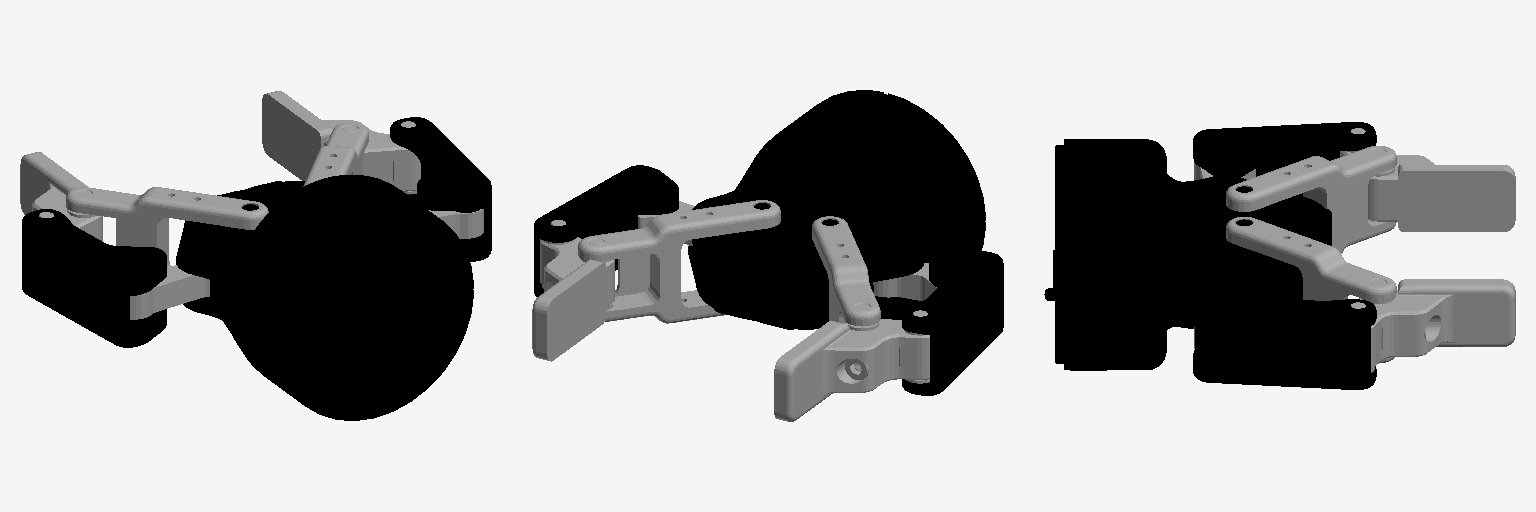
URDF robot description (ur5e_robotiq):
<?xml version="1.0"?>
<!-- =================================================================================== -->
<!-- |    This document was autogenerated by xacro from ur_robotiq.urdf.xacro          | -->
<!-- |    EDITING THIS FILE BY HAND IS NOT RECOMMENDED                                 | -->
<!-- =================================================================================== -->
<robot name="ur5e_robotiq">
  <!-- This xacro file combines the UR5e collaborative robotic arm and the Robotiq 2F-85 gripper. -->
  <!--
    Base UR robot series xacro macro.

    NOTE this is NOT a URDF. It cannot directly be loaded by consumers
    expecting a flattened '.urdf' file. See the top-level '.xacro' for that
    (but note that .xacro must still be processed by the xacro command).

    This file models the base kinematic chain of a UR robot, which then gets
    parameterised by various configuration files to convert it into a UR3(e),
    UR5(e), UR10(e) or UR16e.

    NOTE the default kinematic parameters (i.e., link lengths, frame locations,
    offsets, etc) do not correspond to any particular robot. They are defaults
    only. There WILL be non-zero offsets between the Forward Kinematics results
    in TF (i.e., robot_state_publisher) and the values reported by the Teach
    Pendant.

    For accurate (and robot-specific) transforms, the 'kinematics_parameters_file'
    parameter MUST point to a .yaml file containing the appropriate values for
    the targeted robot.

    If using the UniversalRobots/Universal_Robots_ROS_Driver, follow the steps
    described in the readme of that repository to extract the kinematic
    calibration from the controller and generate the required .yaml file.

    Main author of the migration to yaml configs [author].

    Contributors to previous versions (in no particular order)

     - [author]
     - [author]
     - [author]
     - [author]
     - [author]
     - [author]
     - [author]
     - [author]
     - [author]
     - [author]
     - [author]
     - [author]
     - [author]
     - [author]
     - [author]
     - [author]
     - [author]
     - [author]
     - [author]
  -->
  <!-- create link fixed to the "world" -->
  <link name="world" />
  <!-- links -  main serial chain -->
  <link name="base_link" />
  <link name="base_link_inertia">
    <visual>
      <origin rpy="0 0 3.141592653589793" xyz="0 0 0" />
      <geometry>
        <mesh filename="../meshes/ur5e/visual/base.obj" />
      </geometry>
      <material name="LightGrey">
        <color rgba="0.7 0.7 0.7 1.0" />
      </material>
    </visual>
    <collision>
      <origin rpy="0 0 3.141592653589793" xyz="0 0 0" />
      <geometry>
        <mesh filename="../meshes/ur5e/collision/base.stl" />
      </geometry>
    </collision>
    <inertial>
      <mass value="4.0" />
      <origin rpy="0 0 0" xyz="0 0 0" />
      <inertia ixx="0.00443333156" ixy="0.0" ixz="0.0" iyy="0.00443333156" iyz="0.0" izz="0.0072" />
    </inertial>
  </link>
  <link name="shoulder_link">
    <visual>
      <origin rpy="0 0 3.141592653589793" xyz="0 0 0" />
      <geometry>
        <mesh filename="../meshes/ur5e/visual/shoulder.obj" />
      </geometry>
      <material name="UR_Blue">
        <color rgba="0.376 0.576 0.674 1.0" />
      </material>
    </visual>
    <collision>
      <origin rpy="0 0 3.141592653589793" xyz="0 0 0" />
      <geometry>
        <mesh filename="../meshes/ur5e/collision/shoulder.stl" />
      </geometry>
    </collision>
    <inertial>
      <mass value="3.761" />
      <origin rpy="0 0 0" xyz="0.0 -0.00193 -0.02561" />
      <inertia ixx="0.010267499999999999" ixy="0" ixz="0" iyy="0.010267499999999999" iyz="0"
        izz="0.00666" />
    </inertial>
  </link>
  <link name="upper_arm_link">
    <visual>
      <origin rpy="1.5707963267948966 0 -1.5707963267948966" xyz="0 0 0.138" />
      <geometry>
        <mesh filename="../meshes/ur5e/visual/upperarm.obj" />
      </geometry>
      <material name="LightGrey">
        <color rgba="0.7 0.7 0.7 1.0" />
      </material>
    </visual>
    <collision>
      <origin rpy="1.5707963267948966 0 -1.5707963267948966" xyz="0 0 0.138" />
      <geometry>
        <mesh filename="../meshes/ur5e/collision/upperarm.stl" />
      </geometry>
    </collision>
    <inertial>
      <mass value="8.058" />
      <origin rpy="0 1.570796326794897 0" xyz="-0.2125 0.0 0.11336" />
      <inertia ixx="0.13388583541666665" ixy="0" ixz="0" iyy="0.13388583541666665" iyz="0"
        izz="0.0151074" />
    </inertial>
  </link>
  <link name="forearm_link">
    <visual>
      <origin rpy="1.5707963267948966 0 -1.5707963267948966" xyz="0 0 0.007" />
      <geometry>
        <mesh filename="../meshes/ur5e/visual/forearm.obj" />
      </geometry>
      <material name="LightGrey">
        <color rgba="0.7 0.7 0.7 1.0" />
      </material>
    </visual>
    <collision>
      <origin rpy="1.5707963267948966 0 -1.5707963267948966" xyz="0 0 0.007" />
      <geometry>
        <mesh filename="../meshes/ur5e/collision/forearm.stl" />
      </geometry>
    </collision>
    <inertial>
      <mass value="2.846" />
      <origin rpy="0 1.570796326794897 0" xyz="-0.2422 0.0 0.0265" />
      <inertia ixx="0.03120936758333333" ixy="0" ixz="0" iyy="0.03120936758333333" iyz="0"
        izz="0.004095" />
    </inertial>
  </link>
  <link name="wrist_1_link">
    <visual>
      <origin rpy="1.5707963267948966 0 0" xyz="0 0 -0.127" />
      <geometry>
        <mesh filename="../meshes/ur5e/visual/wrist1.obj" />
      </geometry>
      <material name="UR_Blue">
        <color rgba="0.376 0.576 0.674 1.0" />
      </material>
    </visual>
    <collision>
      <origin rpy="1.5707963267948966 0 0" xyz="0 0 -0.127" />
      <geometry>
        <mesh filename="../meshes/ur5e/collision/wrist1.stl" />
      </geometry>
    </collision>
    <inertial>
      <mass value="1.37" />
      <origin rpy="0 0 0" xyz="0.0 -0.01634 -0.0018" />
      <inertia ixx="0.0025599" ixy="0" ixz="0" iyy="0.0025599" iyz="0" izz="0.0021942" />
    </inertial>
  </link>
  <link name="wrist_2_link">
    <visual>
      <origin rpy="0 0 0" xyz="0 0 -0.0997" />
      <geometry>
        <mesh filename="../meshes/ur5e/visual/wrist2.obj" />
      </geometry>
      <material name="LightGrey">
        <color rgba="0.7 0.7 0.7 1.0" />
      </material>
    </visual>
    <collision>
      <origin rpy="0 0 0" xyz="0 0 -0.0997" />
      <geometry>
        <mesh filename="../meshes/ur5e/collision/wrist2.stl" />
      </geometry>
    </collision>
    <inertial>
      <mass value="1.3" />
      <origin rpy="0 0 0" xyz="0.0 0.01634 -0.0018" />
      <inertia ixx="0.0025599" ixy="0" ixz="0" iyy="0.0025599" iyz="0" izz="0.0021942" />
    </inertial>
  </link>
  <link name="wrist_3_link">
    <visual>
      <origin rpy="1.5707963267948966 0 0" xyz="0 0 -0.0989" />
      <geometry>
        <mesh filename="../meshes/ur5e/visual/wrist3.obj" />
      </geometry>
      <material name="LightGrey">
        <color rgba="0.7 0.7 0.7 1.0" />
      </material>
    </visual>
    <collision>
      <origin rpy="1.5707963267948966 0 0" xyz="0 0 -0.0989" />
      <geometry>
        <mesh filename="../meshes/ur5e/collision/wrist3.stl" />
      </geometry>
    </collision>
    <inertial>
      <mass value="0.365" />
      <origin rpy="0 0 0" xyz="0.0 0.0 -0.001159" />
      <inertia ixx="9.890414008333333e-05" ixy="0" ixz="0" iyy="9.890414008333333e-05" iyz="0"
        izz="0.0001321171875" />
    </inertial>
  </link>
  <!-- base_joint fixes base_link to the environment -->
  <joint name="base_joint" type="fixed">
    <origin rpy="0 0 0" xyz="0 0 0" />
    <parent link="world" />
    <child link="base_link" />
  </joint>
  <!-- joints - main serial chain -->
  <joint name="base_link-base_link_inertia" type="fixed">
    <parent link="base_link" />
    <child link="base_link_inertia" />
    <!-- 'base_link' is REP-103 aligned (so X+ forward), while the internal
           frames of the robot/controller have X+ pointing backwards.
           Use the joint between 'base_link' and 'base_link_inertia' (a dummy
           link/frame) to introduce the necessary rotation over Z (of pi rad).
      -->
    <origin rpy="0 0 3.141592653589793" xyz="0 0 0" />
  </joint>
  <joint name="shoulder_pan_joint" type="revolute">
    <parent link="base_link_inertia" />
    <child link="shoulder_link" />
    <origin rpy="0 0 0" xyz="0 0 0.1625" />
    <axis xyz="0 0 1" />
    <limit effort="150.0" lower="-6.283185307179586" upper="6.283185307179586"
      velocity="3.141592653589793" />
    <dynamics damping="0" friction="0" />
  </joint>
  <joint name="shoulder_lift_joint" type="revolute">
    <parent link="shoulder_link" />
    <child link="upper_arm_link" />
    <origin rpy="1.570796327 0 0" xyz="0 0 0" />
    <axis xyz="0 0 1" />
    <limit effort="150.0" lower="-6.283185307179586" upper="6.283185307179586"
      velocity="3.141592653589793" />
    <dynamics damping="0" friction="0" />
  </joint>
  <joint name="elbow_joint" type="revolute">
    <parent link="upper_arm_link" />
    <child link="forearm_link" />
    <origin rpy="0 0 0" xyz="-0.425 0 0" />
    <axis xyz="0 0 1" />
    <limit effort="150.0" lower="-3.141592653589793" upper="3.141592653589793"
      velocity="3.141592653589793" />
    <dynamics damping="0" friction="0" />
  </joint>
  <joint name="wrist_1_joint" type="revolute">
    <parent link="forearm_link" />
    <child link="wrist_1_link" />
    <origin rpy="0 0 0" xyz="-0.3922 0 0.1333" />
    <axis xyz="0 0 1" />
    <limit effort="28.0" lower="-6.283185307179586" upper="6.283185307179586"
      velocity="3.141592653589793" />
    <dynamics damping="0" friction="0" />
  </joint>
  <joint name="wrist_2_joint" type="revolute">
    <parent link="wrist_1_link" />
    <child link="wrist_2_link" />
    <origin rpy="1.570796327 0 0" xyz="0 -0.0997 -2.044881182297852e-11" />
    <axis xyz="0 0 1" />
    <limit effort="28.0" lower="-6.283185307179586" upper="6.283185307179586"
      velocity="3.141592653589793" />
    <dynamics damping="0" friction="0" />
  </joint>
  <joint name="wrist_3_joint" type="revolute">
    <parent link="wrist_2_link" />
    <child link="wrist_3_link" />
    <origin rpy="1.570796326589793 3.141592653589793 3.141592653589793"
      xyz="0 0.0996 -2.042830148012698e-11" />
    <axis xyz="0 0 1" />
    <limit effort="28.0" lower="-6.283185307179586" upper="6.283185307179586"
      velocity="3.141592653589793" />
    <dynamics damping="0" friction="0" />
  </joint>
  <link name="ft_frame" />
  <joint name="wrist_3_link-ft_frame" type="fixed">
    <parent link="wrist_3_link" />
    <child link="ft_frame" />
    <origin rpy="3.141592653589793 0 0" xyz="0 0 0" />
  </joint>
  <!-- ROS-Industrial 'base' frame - base_link to UR 'Base' Coordinates transform -->
  <link name="base" />
  <joint name="base_link-base_fixed_joint" type="fixed">
    <!-- Note the rotation over Z of pi radians - as base_link is REP-103
           aligned (i.e., has X+ forward, Y+ left and Z+ up), this is needed
           to correctly align 'base' with the 'Base' coordinate system of
           the UR controller.
      -->
    <origin rpy="0 0 3.141592653589793" xyz="0 0 0" />
    <parent link="base_link" />
    <child link="base" />
  </joint>
  <!-- ROS-Industrial 'flange' frame - attachment point for EEF models -->
  <link name="flange" />
  <joint name="wrist_3-flange" type="fixed">
    <parent link="wrist_3_link" />
    <child link="flange" />
    <origin rpy="0 -1.5707963267948966 -1.5707963267948966" xyz="0 0 0" />
  </joint>
  <!-- ROS-Industrial 'tool0' frame - all-zeros tool frame -->
  <link name="tool0" />
  <joint name="flange-tool0" type="fixed">
    <!-- default toolframe - X+ left, Y+ up, Z+ front -->
    <origin rpy="1.5707963267948966 0 1.5707963267948966" xyz="0 0 0" />
    <parent link="flange" />
    <child link="tool0" />
  </joint>
  <!-- Robotiq 2F-85 gripper -->
  <link name="robotiq_85_base_link">
    <visual>
      <geometry>
        <mesh
          filename="../meshes/robotiq/visual/robotiq_base.obj" />
      </geometry>
      <material name="Dark">
        <color rgba="0 0 0 1.0" />
      </material>
    </visual>
    <collision>
      <geometry>
        <mesh
          filename="../meshes/robotiq/collision/robotiq_base.stl" />
      </geometry>
    </collision>
    <inertial>
      <origin rpy="0 0 0" xyz="0.0 2.274e-05 0.03232288" />
      <mass value="6.6320197e-01" />
      <inertia ixx="5.1617816e-04" ixy="2.936e-8" ixz="0.0" iyy="5.8802208e-04" iyz="-3.2296e-7"
        izz="3.9462776e-04" />
    </inertial>
  </link>
  <link name="robotiq_85_left_knuckle_link">
    <visual>
      <geometry>
        <mesh
          filename="../meshes/robotiq/visual/left_knuckle.obj" />
      </geometry>
      <material name="LightGrey">
        <color rgba="0.7 0.7 0.7 1.0" />
      </material>
    </visual>
    <collision>
      <geometry>
        <mesh
          filename="../meshes/robotiq/collision/left_knuckle.stl" />
      </geometry>
    </collision>
    <inertial>
      <origin rpy="0 0 0" xyz="0.01213197 0.0002 -0.00058647" />
      <mass value="1.384773208e-02" />
      <inertia ixx="3.5232e-7" ixy="0.0" ixz="1.1744e-7" iyy="2.31944e-6" iyz="0" izz="2.23136e-6" />
    </inertial>
  </link>
  <link name="robotiq_85_right_knuckle_link">
    <visual>
      <geometry>
        <mesh
          filename="../meshes/robotiq/visual/right_knuckle.obj" />
      </geometry>
      <material name="LightGrey">
        <color rgba="0.7 0.7 0.7 1.0" />
      </material>
    </visual>
    <collision>
      <geometry>
        <mesh
          filename="../meshes/robotiq/collision/right_knuckle.stl" />
      </geometry>
    </collision>
    <inertial>
      <origin rpy="0 0 0" xyz="-0.01213197 0.0002 -0.00058647" />
      <mass value="1.384773208e-02" />
      <inertia ixx="3.5232e-7" ixy="0.0" ixz="-1.1744e-7" iyy="2.31944e-6" iyz="0.0"
        izz="2.23136e-6" />
    </inertial>
  </link>
  <link name="robotiq_85_left_finger_link">
    <visual>
      <geometry>
        <mesh
          filename="../meshes/robotiq/visual/left_finger.obj" />
      </geometry>
      <material name="Dark">
        <color rgba="0 0 0 1.0" />
      </material>
    </visual>
    <collision>
      <geometry>
        <mesh
          filename="../meshes/robotiq/collision/left_finger.stl" />
      </geometry>
    </collision>
    <inertial>
      <origin rpy="0 0 0" xyz="0.00346899 -0.00079447 0.01867121" />
      <mass value="4.260376752e-02" />
      <inertia ixx="1.385792000000000e-05" ixy="0.0" ixz="-2.17264e-06" iyy="1.183208e-05" iyz="0.0"
        izz="5.19672e-06" />
    </inertial>
  </link>
  <link name="robotiq_85_right_finger_link">
    <visual>
      <geometry>
        <mesh
          filename="../meshes/robotiq/visual/right_finger.obj" />
      </geometry>
      <material name="Dark">
        <color rgba="0 0 0 1.0" />
      </material>
    </visual>
    <collision>
      <geometry>
        <mesh
          filename="../meshes/robotiq/collision/right_finger.stl" />
      </geometry>
    </collision>
    <inertial>
      <origin rpy="0 0 0" xyz="-0.00346899 -5.53e-06 0.01867121" />
      <mass value="4.260376752000000e-02" />
      <inertia ixx="1.385792e-05" ixy="0.0" ixz="2.17264e-06" iyy="1.183208e-05" iyz="0.0"
        izz="5.19672e-06" />
    </inertial>
  </link>
  <link name="robotiq_85_left_inner_knuckle_link">
    <visual>
      <geometry>
        <mesh
          filename="../meshes/robotiq/visual/left_inner_knuckle.obj" />
      </geometry>
      <material name="LightGrey">
        <color rgba="0.7 0.7 0.7 1.0" />
      </material>
    </visual>
    <collision>
      <geometry>
        <mesh
          filename="../meshes/robotiq/collision/left_inner_knuckle.stl" />
      </geometry>
    </collision>
    <inertial>
      <origin rpy="0 0 0" xyz="0.01897699 0.00015001 0.02247101" />
      <mass value="2.969376448e-02" />
      <inertia ixx="9.57136e-06" ixy="0.0" ixz="-3.93424e-06" iyy="8.69056e-06" iyz="0.0"
        izz="8.19144e-06" />
    </inertial>
  </link>
  <link name="robotiq_85_right_inner_knuckle_link">
    <visual>
      <geometry>
        <mesh
          filename="../meshes/robotiq/visual/right_inner_knuckle.obj" />
      </geometry>
      <material name="LightGrey">
        <color rgba="0.7 0.7 0.7 1.0" />
      </material>
    </visual>
    <collision>
      <geometry>
        <mesh
          filename="../meshes/robotiq/collision/right_inner_knuckle.stl" />
      </geometry>
    </collision>
    <inertial>
      <origin rpy="0 0 0" xyz="-0.01926824 5.001e-05 0.02222178" />
      <mass value="2.969376448e-02" />
      <inertia ixx="9.42456e-06" ixy="0.0" ixz="3.9636e-06" iyy="8.69056e-06" iyz="0.0"
        izz="8.33824e-06" />
    </inertial>
  </link>
  <link name="robotiq_85_left_finger_tip_link">
    <visual>
      <geometry>
        <mesh
          filename="../meshes/robotiq/visual/left_finger_tip.obj" />
      </geometry>
      <material name="LightGrey">
        <color rgba="0.7 0.7 0.7 1.0" />
      </material>
    </visual>
    <collision>
      <geometry>
        <mesh
          filename="../meshes/robotiq/collision/left_finger_tip.stl" />
      </geometry>
      <surface>
        <friction>
          <ode>
            <mu1>100000.0</mu1>
            <mu2>100000.0</mu2>
          </ode>
        </friction>
        <contact>
          <ode>
            <kp>1e+5</kp>
            <kd>1</kd>
            <soft_cfm>0</soft_cfm>
            <soft_erp>0.2</soft_erp>
            <minDepth>0.002</minDepth>
            <maxVel>0</maxVel>
          </ode>
        </contact>
      </surface>
    </collision>
    <inertial>
      <origin rpy="0 0 0" xyz="-0.01456706 -0.0008 0.01649701" />
      <mass value="4.268588744e-02" />
      <inertia ixx="1.048152e-05" ixy="0.0" ixz="3.5232e-6" iyy="1.197888e-05" iyz="0.0"
        izz="4.22784e-06" />
    </inertial>
  </link>
  <link name="robotiq_85_right_finger_tip_link">
    <visual>
      <geometry>
        <mesh
          filename="../meshes/robotiq/visual/right_finger_tip.obj" />
      </geometry>
      <material name="LightGrey">
        <color rgba="0.7 0.7 0.7 1.0" />
      </material>
    </visual>
    <collision>
      <geometry>
        <mesh
          filename="../meshes/robotiq/collision/right_finger_tip.stl" />
      </geometry>
      <surface>
        <friction>
          <ode>
            <mu1>100000.0</mu1>
            <mu2>100000.0</mu2>
          </ode>
        </friction>
        <contact>
          <ode>
            <kp>1e+5</kp>
            <kd>1</kd>
            <soft_cfm>0</soft_cfm>
            <soft_erp>0.2</soft_erp>
            <minDepth>0.002</minDepth>
            <maxVel>0</maxVel>
          </ode>
        </contact>
      </surface>
    </collision>
    <inertial>
      <origin rpy="0 0 0" xyz="0.01456706 5e-05 0.01649701" />
      <mass value="4.268588744e-02" />
      <inertia ixx="1.048152e-05" ixy="0.0" ixz="-3.5232e-06" iyy="1.197888e-05" iyz="0.0"
        izz="4.22784e-06" />
    </inertial>
  </link>
  <!-- <link name="gripper_center_link">
    <inertial>
      <origin rpy="0 0 0" xyz="0 0 0" />
      <mass value="0.001" />
      <inertia ixx="0.000001" ixy="0" ixz="0" iyy="0.000001" iyz="0" izz="0.000001" />
    </inertial>
  </link> -->
  <link name="gripper_center_link">
    <visual>
      <origin rpy="1.5708 0 0" xyz="0 0 0" />
      <geometry>
        <cylinder length="0.0001" radius="0.0001" />
      </geometry>
      <material name="Red">
        <color rgba="1 0 0 0" />
      </material>
    </visual>
    <collision>
      <origin rpy="1.5708 0 0" xyz="0 0 0" />
      <geometry>
        <cylinder length="0.0001" radius="0.0001" />
      </geometry>
    </collision>
    <inertial>
      <origin rpy="0 0 0" xyz="0 0 0" />
      <mass value="0.001" />
      <inertia ixx="0.000001" ixy="0" ixz="0" iyy="0.000001" iyz="0" izz="0.000001" />
    </inertial>
  </link>
  <joint name="robotiq_85_base_joint" type="fixed">
    <parent link="tool0" />
    <child link="robotiq_85_base_link" />
    <origin rpy="0 0 0" xyz="0 0 0" />
  </joint>
  <joint name="robotiq_85_left_knuckle_joint" type="revolute">
    <parent link="robotiq_85_base_link" />
    <child link="robotiq_85_left_knuckle_link" />
    <axis xyz="0 -1 0" />
    <origin rpy="0 0 0" xyz="0.03060114 0.0 0.05490452" />
    <limit effort="50" lower="0.0" upper="0.8" velocity="0.5" />
  </joint>
  <joint name="robotiq_85_right_knuckle_joint" type="revolute">
    <parent link="robotiq_85_base_link" />
    <child link="robotiq_85_right_knuckle_link" />
    <axis xyz="0 -1 0" />
    <origin rpy="0 0 0" xyz="-0.03060114 0.0 0.05490452" />
    <limit effort="50" lower="-0.8" upper="0.0" velocity="0.5" />
    <mimic joint="robotiq_85_left_knuckle_joint" multiplier="-1" />
  </joint>
  <joint name="robotiq_85_left_finger_joint" type="fixed">
    <parent link="robotiq_85_left_knuckle_link" />
    <child link="robotiq_85_left_finger_link" />
    <origin rpy="0 0 0" xyz="0.03152616 0.0 -0.00376347" />
  </joint>
  <joint name="robotiq_85_right_finger_joint" type="fixed">
    <parent link="robotiq_85_right_knuckle_link" />
    <child link="robotiq_85_right_finger_link" />
    <origin rpy="0 0 0" xyz="-0.03152616 0.0 -0.00376347" />
  </joint>
  <joint name="robotiq_85_left_inner_knuckle_joint" type="continuous">
    <parent link="robotiq_85_base_link" />
    <child link="robotiq_85_left_inner_knuckle_link" />
    <axis xyz="0 -1 0" />
    <origin rpy="0 0 0" xyz="0.0127 0.0 0.06142" />
    <mimic joint="robotiq_85_left_knuckle_joint" />
  </joint>
  <joint name="robotiq_85_right_inner_knuckle_joint" type="continuous">
    <parent link="robotiq_85_base_link" />
    <child link="robotiq_85_right_inner_knuckle_link" />
    <axis xyz="0 -1 0" />
    <origin rpy="0 0 0" xyz="-0.0127 0.0 0.06142" />
    <mimic joint="robotiq_85_left_knuckle_joint" multiplier="-1" />
  </joint>
  <joint name="robotiq_85_left_finger_tip_joint" type="continuous">
    <parent link="robotiq_85_left_finger_link" />
    <child link="robotiq_85_left_finger_tip_link" />
    <axis xyz="0 -1 0" />
    <origin rpy="0 0 0" xyz="0.00563134 0.0 0.04718515" />
    <mimic joint="robotiq_85_left_knuckle_joint" multiplier="-1" />
  </joint>
  <joint name="robotiq_85_right_finger_tip_joint" type="continuous">
    <parent link="robotiq_85_right_finger_link" />
    <child link="robotiq_85_right_finger_tip_link" />
    <axis xyz="0 -1 0" />
    <origin rpy="0 0 0" xyz="-0.00563134 0.0 0.04718515" />
    <mimic joint="robotiq_85_left_knuckle_joint" />
  </joint>
  <joint name="gripper_center_joint" type="fixed">
    <parent link="robotiq_85_base_link" />
    <child link="gripper_center_link" />
    <origin rpy="0 0 0" xyz="0 0 0.14" />
  </joint>
</robot>

--- Render facts (derived) ---
3 views of the same robot in one strip: view 1: azimuth 30°, elevation 25°; view 2: azimuth 150°, elevation 25°; view 3: azimuth 270°, elevation 25° (orthographic).
Robot: ur5e_robotiq — 23 links, 22 joints (8 revolute, 4 continuous, 10 fixed); root link world; default pose: all joints at 0.
Links seen in each view (by area): view 1: robotiq_85_base_link, robotiq_85_left_finger_link, robotiq_85_left_inner_knuckle_link, robotiq_85_right_finger_tip_link, robotiq_85_right_finger_link, robotiq_85_left_finger_tip_link, robotiq_85_right_inner_knuckle_link, robotiq_85_left_knuckle_link, robotiq_85_right_knuckle_link; view 2: robotiq_85_base_link, robotiq_85_right_inner_knuckle_link, robotiq_85_left_finger_tip_link, robotiq_85_left_finger_link, robotiq_85_right_finger_tip_link, robotiq_85_right_finger_link, robotiq_85_left_inner_knuckle_link, robotiq_85_left_knuckle_link; view 3: robotiq_85_base_link, robotiq_85_right_finger_link, robotiq_85_right_finger_tip_link, robotiq_85_left_finger_tip_link, robotiq_85_left_inner_knuckle_link, robotiq_85_left_finger_link, robotiq_85_right_inner_knuckle_link.
Link boxes in pixels (bbox=[...]): robotiq_85_base_link: bbox=[176, 175, 473, 420]; robotiq_85_left_finger_link: bbox=[22, 209, 166, 347]; robotiq_85_left_inner_knuckle_link: bbox=[66, 187, 268, 267]; robotiq_85_right_finger_tip_link: bbox=[262, 91, 420, 194]; robotiq_85_right_finger_link: bbox=[390, 117, 491, 261]; robotiq_85_left_finger_tip_link: bbox=[20, 152, 102, 241]; robotiq_85_right_inner_knuckle_link: bbox=[303, 123, 368, 186]; robotiq_85_left_knuckle_link: bbox=[130, 265, 209, 319]; robotiq_85_right_knuckle_link: bbox=[429, 209, 483, 238]; robotiq_85_base_link: bbox=[688, 90, 985, 329]; robotiq_85_right_inner_knuckle_link: bbox=[578, 200, 780, 323]; robotiq_85_left_finger_tip_link: bbox=[774, 310, 929, 421]; robotiq_85_left_finger_link: bbox=[902, 250, 1003, 395]; robotiq_85_right_finger_tip_link: bbox=[532, 220, 614, 361]; robotiq_85_right_finger_link: bbox=[534, 165, 678, 296]; robotiq_85_left_inner_knuckle_link: bbox=[812, 216, 880, 326]; robotiq_85_left_knuckle_link: bbox=[873, 263, 936, 300]; robotiq_85_base_link: bbox=[1044, 139, 1331, 370]; robotiq_85_right_finger_link: bbox=[1193, 281, 1376, 389]; robotiq_85_right_finger_tip_link: bbox=[1351, 279, 1515, 372]; robotiq_85_left_finger_tip_link: bbox=[1340, 128, 1515, 231]; robotiq_85_left_inner_knuckle_link: bbox=[1226, 146, 1396, 253]; robotiq_85_left_finger_link: bbox=[1193, 122, 1376, 195]; robotiq_85_right_inner_knuckle_link: bbox=[1226, 217, 1396, 363].
Bounding box of the posed robot: 0.1524 × 0.1527 × 0.075 m (x, y, z).
9 mesh visuals loaded from 16 distinct referenced files (9 OBJ); not drawn: 7 (reference not matched to a file when rendering).